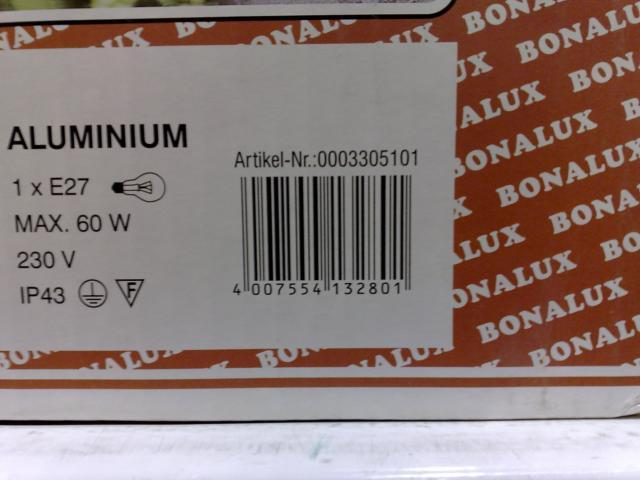Barcode: (221, 169, 429, 305)
